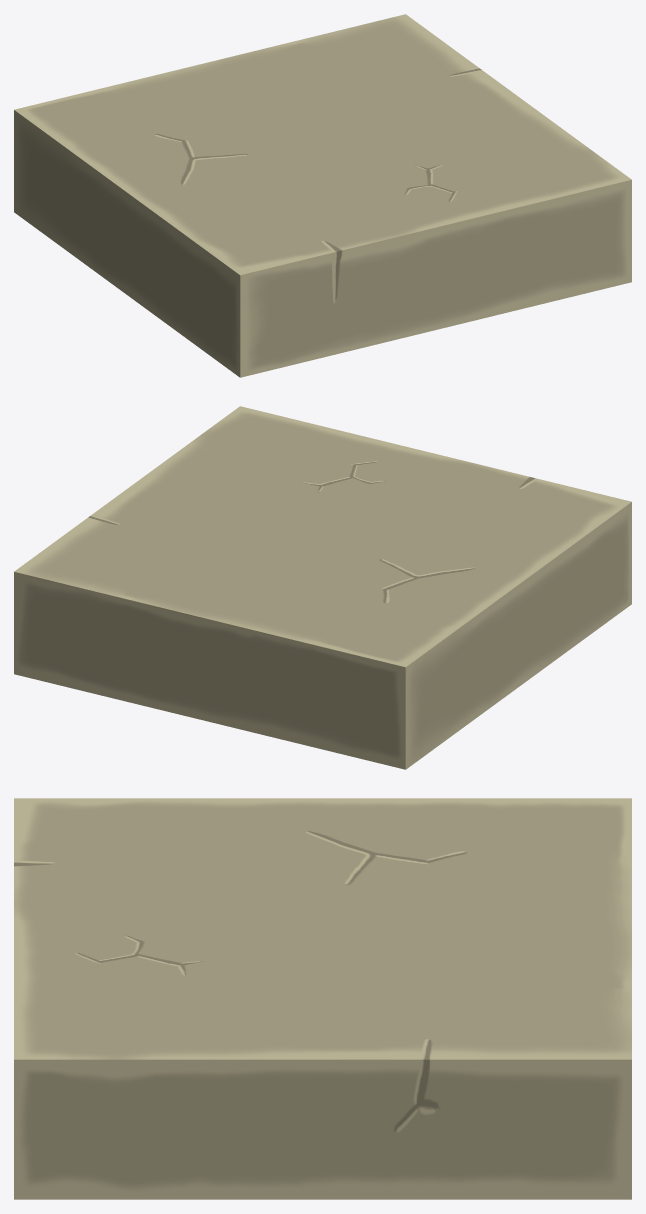
Rendered from temple103.obj.
3 views of the same model, one above another, from view 1: azimuth 30°, elevation 25°; view 2: azimuth 150°, elevation 25°; view 3: azimuth 270°, elevation 25° (orthographic). The views are drawn at different scales.
Parts seen in each view (by area): view 1: Base_02; view 2: Base_02; view 3: Base_02.
Boxes of the visible parts, x1,y1,x2,y2 form: Base_02: [14, 14, 631, 377]; Base_02: [14, 406, 631, 769]; Base_02: [14, 798, 631, 1199].
Bounding box in the file's own units: 4 × 1 × 4.
Materials: 1 (1 with a texture image).
